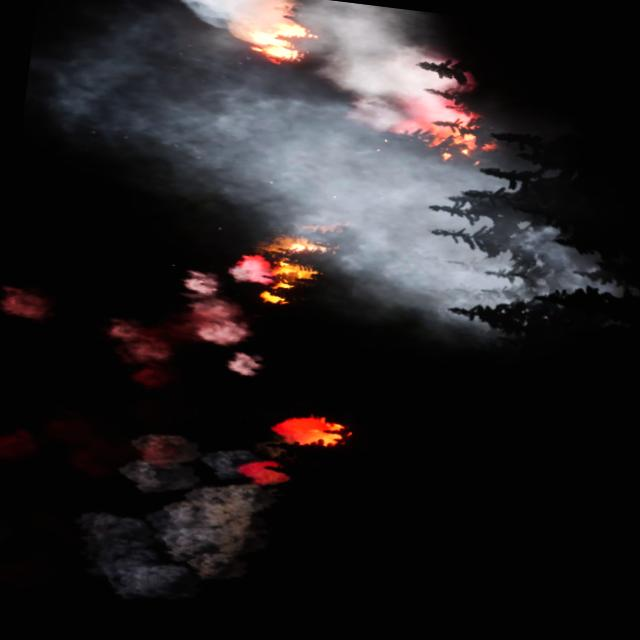fire: (253, 238, 332, 306), (228, 10, 314, 70), (412, 102, 487, 160), (266, 408, 350, 454)
smoke: (24, 0, 640, 357), (54, 413, 288, 624), (0, 226, 279, 400)
